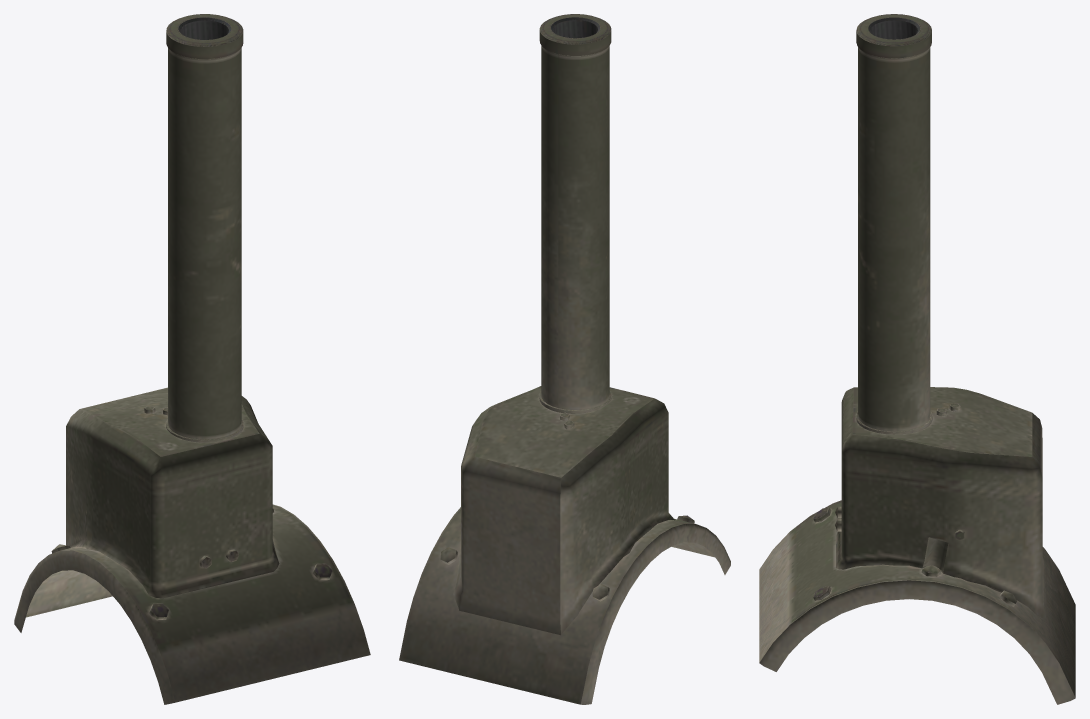
Rendered from Gun_02.glb.
3 renders of one model, left to right at view 1: azimuth 30°, elevation 25°; view 2: azimuth 150°, elevation 25°; view 3: azimuth 270°, elevation 25°, orthographic. The views are drawn at different scales.
Parts seen in each view (by area): view 1: set_0_group_0; view 2: set_0_group_0; view 3: set_0_group_0.
Boxes of the visible parts, <box> form: set_0_group_0: <box>14,14,370,704</box>; set_0_group_0: <box>399,14,730,704</box>; set_0_group_0: <box>759,14,1075,704</box>.
Size of the model in its own units: 0.7263 by 2.23 by 1.02.
1 material, 1 textured.
